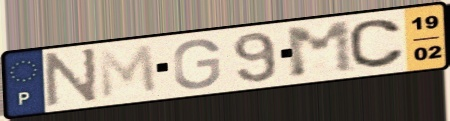9: (229, 30, 279, 85)
C: (345, 17, 408, 70)
G: (171, 37, 223, 91)
M: (282, 18, 358, 81), (96, 42, 161, 102)
N: (43, 45, 99, 110)
